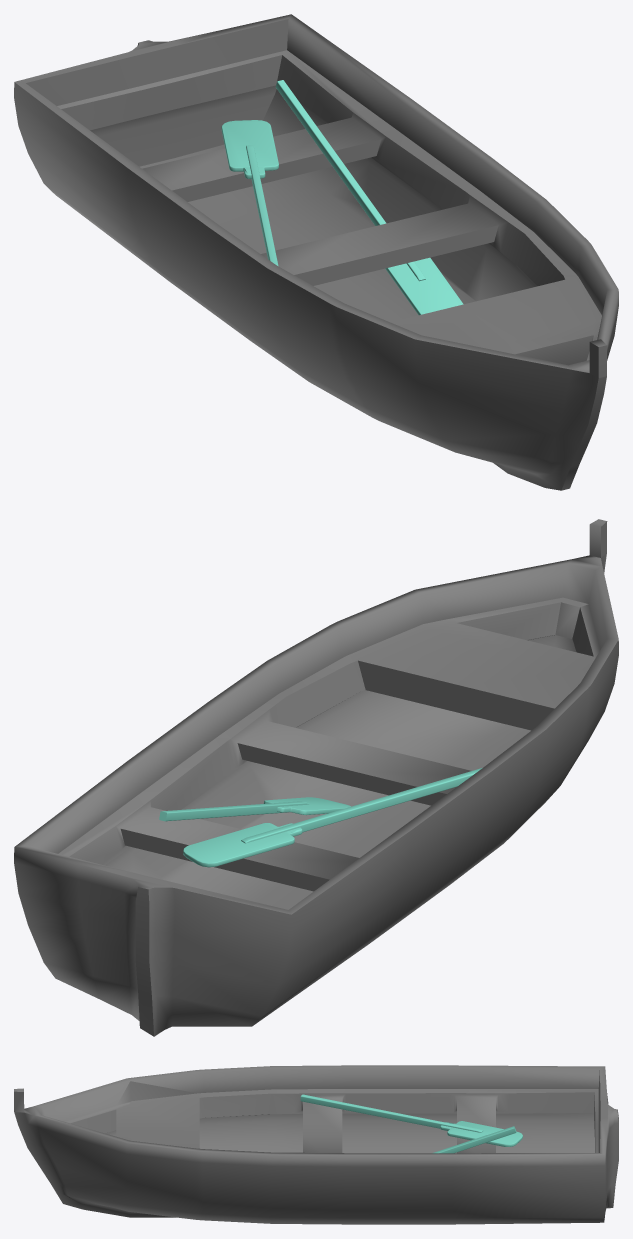
File: boat_low.fbx
The picture shows the model from 3 angles, top to bottom: view 1: azimuth 30°, elevation 25°; view 2: azimuth 150°, elevation 25°; view 3: azimuth 270°, elevation 25°; orthographic projection. The views are drawn at different scales.
Parts seen in each view (by area): view 1: Boat_low, Paroo, Paroo001; view 2: Boat_low, Paroo001, Paroo; view 3: Boat_low, Paroo001, Paroo.
Boxes of the visible parts, x1,y1,x2,y2 form: Boat_low: (14, 14, 618, 490); Paroo: (275, 80, 463, 315); Paroo001: (221, 120, 278, 266); Boat_low: (14, 519, 618, 1036); Paroo001: (183, 768, 482, 867); Paroo: (159, 797, 350, 821); Boat_low: (14, 1065, 618, 1224); Paroo001: (300, 1094, 522, 1146); Paroo: (432, 1126, 516, 1153).
Bounding box in the file's own units: 189 × 121 × 532.
